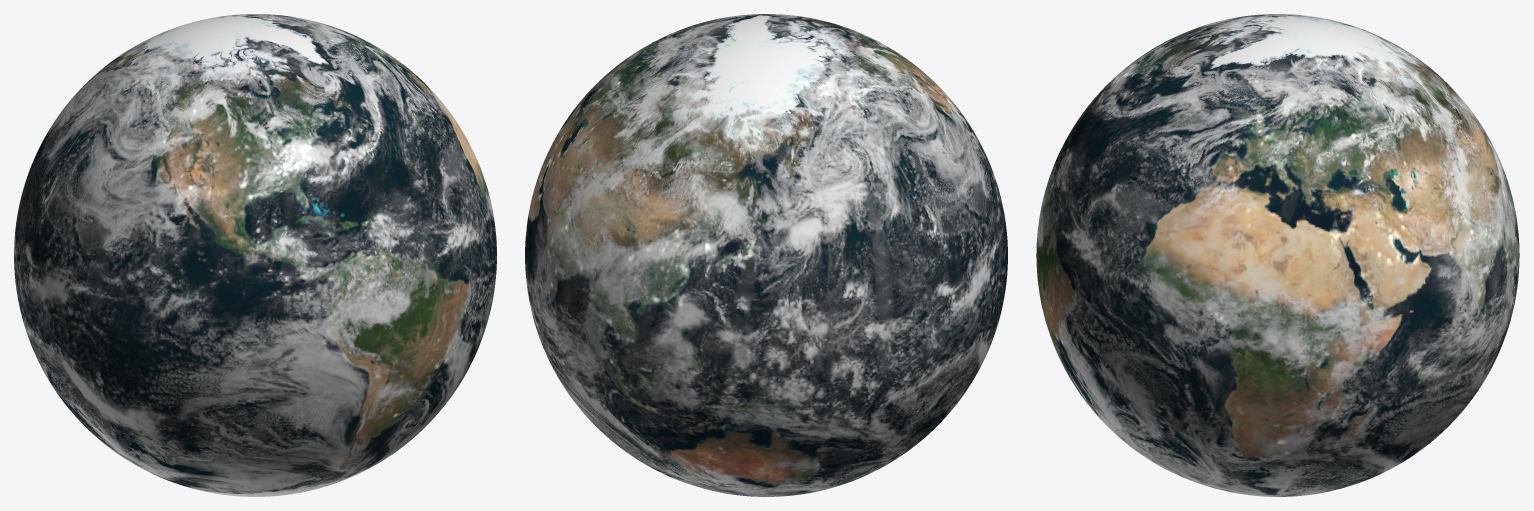
The model's file is planet_earth.gltf.
3 views of the same model, side by side, from view 1: azimuth 30°, elevation 25°; view 2: azimuth 150°, elevation 25°; view 3: azimuth 270°, elevation 25° (orthographic).
Visible parts, largest first — view 1: Earth; view 2: Earth; view 3: Earth.
Boxes of the visible parts, left/top/right/bottom form: Earth: left=14, top=14, right=496, bottom=496; Earth: left=525, top=14, right=1007, bottom=496; Earth: left=1036, top=14, right=1519, bottom=496.
Bounding box in the file's own units: 2 × 2 × 2.
Materials: 1 (1 with a texture image).
